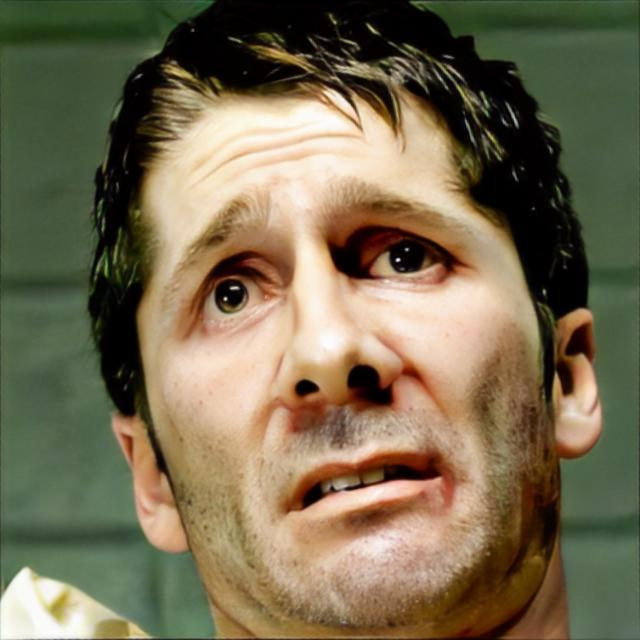Fear: (138, 72, 550, 640)
